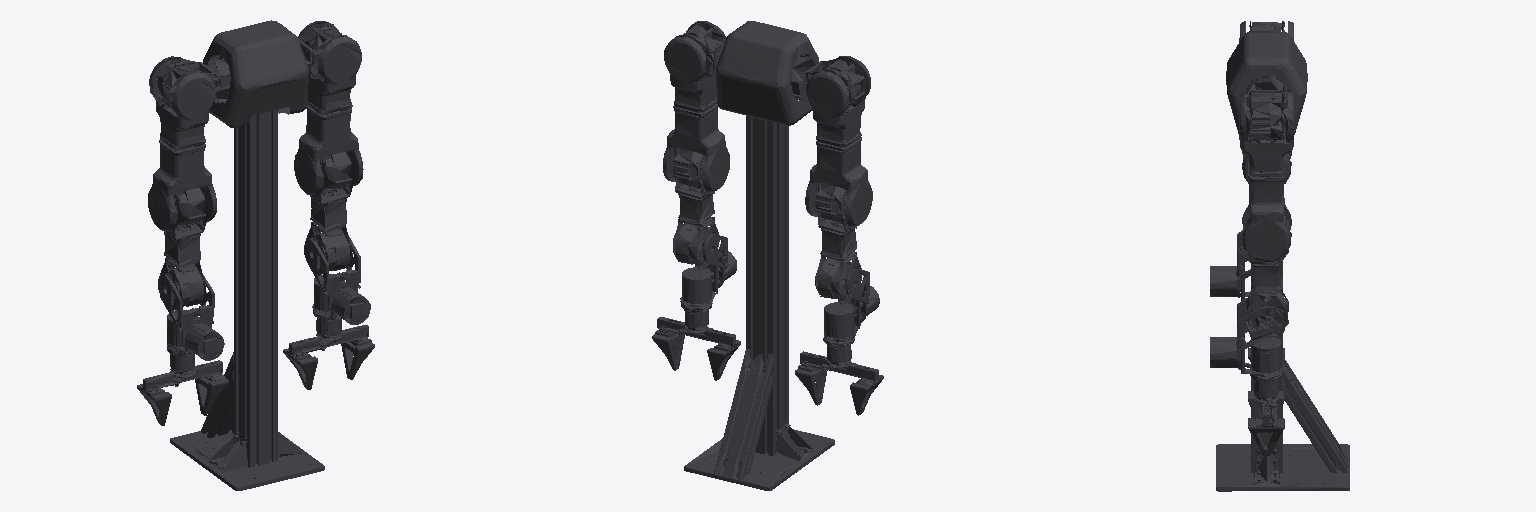
URDF robot description (humanoid_arm):
<?xml version="1.0"?>
<!-- humanoid_arm. Units: m, kg, rad. All link frames are parallel to the world frame at the zero pose. -->
<robot name="humanoid_arm">
  <mujoco>
    <compiler meshdir="../meshes/" balanceinertia="true" discardvisual="false" fusestatic="false"/>
  </mujoco>
  <material name="grey"><color rgba="0.30 0.30 0.32 1"/></material>
  <link name="base_link">
    <inertial>
      <origin xyz="0 0.103944 0.403846" rpy="0 0 0"/>
      <mass value="25.72767"/>
      <inertia ixx="2.3578e+00" ixy="3.0876e-06" ixz="-3.4480e-08" iyy="2.3470e+00" iyz="7.9302e-02" izz="6.4582e-02"/>
    </inertial>
    <visual>
      <origin xyz="0 0 0" rpy="0 0 0"/>
      <geometry><mesh filename="../meshes/base_link.stl"/></geometry>
      <material name="grey"/>
    </visual>
    <collision>
      <origin xyz="0 0 0" rpy="0 0 0"/>
      <geometry><mesh filename="../meshes/base_link.stl"/></geometry>
    </collision>
  </link>
  <link name="l_hip_pitch_link">
    <inertial>
      <origin xyz="0.051048 -0.001186 -0.000008" rpy="0 0 0"/>
      <mass value="0.868765"/>
      <inertia ixx="6.5521e-04" ixy="6.4244e-06" ixz="-3.3439e-07" iyy="9.7709e-04" iyz="7.8484e-09" izz="8.4756e-04"/>
    </inertial>
    <visual>
      <origin xyz="0 0 0" rpy="0 0 0"/>
      <geometry><mesh filename="../meshes/l_hip_pitch_link.stl"/></geometry>
      <material name="grey"/>
    </visual>
    <collision>
      <origin xyz="0 0 0" rpy="0 0 0"/>
      <geometry><mesh filename="../meshes/l_hip_pitch_link.stl"/></geometry>
    </collision>
  </link>
  <link name="l_hip_roll_link">
    <inertial>
      <origin xyz="0 0.029193 -0.060146" rpy="0 0 0"/>
      <mass value="2.059693"/>
      <inertia ixx="4.7119e-03" ixy="-3.2095e-08" ixz="-1.3711e-08" iyy="3.7988e-03" iyz="-1.1451e-05" izz="2.5091e-03"/>
    </inertial>
    <visual>
      <origin xyz="0 0 0" rpy="0 0 0"/>
      <geometry><mesh filename="../meshes/l_hip_roll_link.stl"/></geometry>
      <material name="grey"/>
    </visual>
    <collision>
      <origin xyz="0 0 0" rpy="0 0 0"/>
      <geometry><mesh filename="../meshes/l_hip_roll_link.stl"/></geometry>
    </collision>
  </link>
  <link name="l_hip_yaw_link">
    <inertial>
      <origin xyz="-0.000152 -0.000002 -0.073433" rpy="0 0 0"/>
      <mass value="1.254816"/>
      <inertia ixx="3.3900e-03" ixy="1.3120e-08" ixz="-9.5808e-06" iyy="4.3090e-03" iyz="1.5339e-07" izz="2.2337e-03"/>
    </inertial>
    <visual>
      <origin xyz="0 0 0" rpy="0 0 0"/>
      <geometry><mesh filename="../meshes/l_hip_yaw_link.stl"/></geometry>
      <material name="grey"/>
    </visual>
    <collision>
      <origin xyz="0 0 0" rpy="0 0 0"/>
      <geometry><mesh filename="../meshes/l_hip_yaw_link.stl"/></geometry>
    </collision>
  </link>
  <link name="l_knee_link">
    <inertial>
      <origin xyz="-0.027728 0.000073 -0.070232" rpy="0 0 0"/>
      <mass value="1.756732"/>
      <inertia ixx="1.0730e-02" ixy="-1.1888e-06" ixz="-1.5682e-05" iyy="1.0508e-02" iyz="-9.0171e-06" izz="1.2574e-03"/>
    </inertial>
    <visual>
      <origin xyz="0 0 0" rpy="0 0 0"/>
      <geometry><mesh filename="../meshes/l_knee_link.stl"/></geometry>
      <material name="grey"/>
    </visual>
    <collision>
      <origin xyz="0 0 0" rpy="0 0 0"/>
      <geometry><mesh filename="../meshes/l_knee_link.stl"/></geometry>
    </collision>
  </link>
  <link name="l_link4">
    <inertial>
      <origin xyz="-0.028095 -0.070822 -0.070302" rpy="0 0 0"/>
      <mass value="1.217373"/>
      <inertia ixx="1.9041e-03" ixy="2.5474e-05" ixz="2.5348e-05" iyy="1.3681e-03" iyz="-6.8837e-04" izz="1.3154e-03"/>
    </inertial>
    <visual>
      <origin xyz="0 0 0" rpy="0 0 0"/>
      <geometry><mesh filename="../meshes/l_link4.stl"/></geometry>
      <material name="grey"/>
    </visual>
    <collision>
      <origin xyz="0 0 0" rpy="0 0 0"/>
      <geometry><mesh filename="../meshes/l_link4.stl"/></geometry>
    </collision>
  </link>
  <link name="l_link5">
    <inertial>
      <origin xyz="0.000003 0.040592 -0.005292" rpy="0 0 0"/>
      <mass value="1.182443"/>
      <inertia ixx="7.7475e-04" ixy="4.3011e-08" ixz="3.0235e-09" iyy="5.1816e-04" iyz="2.5539e-05" izz="7.2014e-04"/>
    </inertial>
    <visual>
      <origin xyz="0 0 0" rpy="0 0 0"/>
      <geometry><mesh filename="../meshes/l_link5.stl"/></geometry>
      <material name="grey"/>
    </visual>
    <collision>
      <origin xyz="0 0 0" rpy="0 0 0"/>
      <geometry><mesh filename="../meshes/l_link5.stl"/></geometry>
    </collision>
  </link>
  <link name="l_link6">
    <inertial>
      <origin xyz="0.000002 0.000014 -0.037543" rpy="0 0 0"/>
      <mass value="0.390039"/>
      <inertia ixx="2.9355e-04" ixy="9.1483e-08" ixz="-2.7091e-08" iyy="6.1377e-04" iyz="-6.7905e-07" izz="4.2094e-04"/>
    </inertial>
    <visual>
      <origin xyz="0 0 0" rpy="0 0 0"/>
      <geometry><mesh filename="../meshes/l_link6.stl"/></geometry>
      <material name="grey"/>
    </visual>
    <collision>
      <origin xyz="0 0 0" rpy="0 0 0"/>
      <geometry><mesh filename="../meshes/l_link6.stl"/></geometry>
    </collision>
  </link>
  <link name="l_gripper_link">
    <inertial>
      <origin xyz="0 -0.000008 -0.007215" rpy="0 0 0"/>
      <mass value="0.02312"/>
      <inertia ixx="3.3559e-06" ixy="-2.4369e-06" ixz="1.3193e-09" iyy="5.1299e-06" iyz="1.5817e-09" izz="7.4645e-06"/>
    </inertial>
    <visual>
      <origin xyz="0 0 0" rpy="0 0 0"/>
      <geometry><mesh filename="../meshes/l_gripper_link.stl"/></geometry>
      <material name="grey"/>
    </visual>
    <collision>
      <origin xyz="0 0 0" rpy="0 0 0"/>
      <geometry><mesh filename="../meshes/l_gripper_link.stl"/></geometry>
    </collision>
  </link>
  <link name="l_jaw_right">
    <inertial>
      <origin xyz="-0.057052 -0.0049 -0.030278" rpy="0 0 0"/>
      <mass value="0.461861"/>
      <inertia ixx="3.0770e-04" ixy="1.8211e-06" ixz="3.7233e-05" iyy="2.0700e-04" iyz="4.9282e-06" izz="1.9749e-04"/>
    </inertial>
    <visual>
      <origin xyz="0 0 0" rpy="0 0 0"/>
      <geometry><mesh filename="../meshes/l_jaw_right.stl"/></geometry>
      <material name="grey"/>
    </visual>
    <collision>
      <origin xyz="0 0 0" rpy="0 0 0"/>
      <geometry><mesh filename="../meshes/l_jaw_right.stl"/></geometry>
    </collision>
  </link>
  <link name="l_jaw_left">
    <inertial>
      <origin xyz="0.057133 -0.004161 -0.030348" rpy="0 0 0"/>
      <mass value="0.46081"/>
      <inertia ixx="3.0648e-04" ixy="1.1901e-06" ixz="-3.8381e-05" iyy="2.0465e-04" iyz="-4.4710e-06" izz="1.9592e-04"/>
    </inertial>
    <visual>
      <origin xyz="0 0 0" rpy="0 0 0"/>
      <geometry><mesh filename="../meshes/l_jaw_left.stl"/></geometry>
      <material name="grey"/>
    </visual>
    <collision>
      <origin xyz="0 0 0" rpy="0 0 0"/>
      <geometry><mesh filename="../meshes/l_jaw_left.stl"/></geometry>
    </collision>
  </link>
  <link name="r_hip_pitch_link">
    <inertial>
      <origin xyz="-0.056258 -0.001186 -0.000008" rpy="0 0 0"/>
      <mass value="0.868765"/>
      <inertia ixx="6.5521e-04" ixy="-4.0814e-06" ixz="3.3334e-07" iyy="9.7452e-04" iyz="7.1261e-09" izz="8.4499e-04"/>
    </inertial>
    <visual>
      <origin xyz="0 0 0" rpy="0 0 0"/>
      <geometry><mesh filename="../meshes/r_hip_pitch_link.stl"/></geometry>
      <material name="grey"/>
    </visual>
    <collision>
      <origin xyz="0 0 0" rpy="0 0 0"/>
      <geometry><mesh filename="../meshes/r_hip_pitch_link.stl"/></geometry>
    </collision>
  </link>
  <link name="r_hip_roll_link">
    <inertial>
      <origin xyz="0 0.029193 -0.060146" rpy="0 0 0"/>
      <mass value="2.059693"/>
      <inertia ixx="4.7119e-03" ixy="-3.2095e-08" ixz="-1.3711e-08" iyy="3.7988e-03" iyz="-1.1451e-05" izz="2.5091e-03"/>
    </inertial>
    <visual>
      <origin xyz="0 0 0" rpy="0 0 0"/>
      <geometry><mesh filename="../meshes/r_hip_roll_link.stl"/></geometry>
      <material name="grey"/>
    </visual>
    <collision>
      <origin xyz="0 0 0" rpy="0 0 0"/>
      <geometry><mesh filename="../meshes/r_hip_roll_link.stl"/></geometry>
    </collision>
  </link>
  <link name="r_hip_yaw_link">
    <inertial>
      <origin xyz="-0.000152 -0.000002 -0.073433" rpy="0 0 0"/>
      <mass value="1.254816"/>
      <inertia ixx="3.3900e-03" ixy="1.3120e-08" ixz="-9.5808e-06" iyy="4.3090e-03" iyz="1.5339e-07" izz="2.2337e-03"/>
    </inertial>
    <visual>
      <origin xyz="0 0 0" rpy="0 0 0"/>
      <geometry><mesh filename="../meshes/r_hip_yaw_link.stl"/></geometry>
      <material name="grey"/>
    </visual>
    <collision>
      <origin xyz="0 0 0" rpy="0 0 0"/>
      <geometry><mesh filename="../meshes/r_hip_yaw_link.stl"/></geometry>
    </collision>
  </link>
  <link name="r_knee_link">
    <inertial>
      <origin xyz="-0.027728 0.000073 -0.070232" rpy="0 0 0"/>
      <mass value="1.756732"/>
      <inertia ixx="1.0730e-02" ixy="-1.1888e-06" ixz="-1.5682e-05" iyy="1.0508e-02" iyz="-9.0171e-06" izz="1.2574e-03"/>
    </inertial>
    <visual>
      <origin xyz="0 0 0" rpy="0 0 0"/>
      <geometry><mesh filename="../meshes/r_knee_link.stl"/></geometry>
      <material name="grey"/>
    </visual>
    <collision>
      <origin xyz="0 0 0" rpy="0 0 0"/>
      <geometry><mesh filename="../meshes/r_knee_link.stl"/></geometry>
    </collision>
  </link>
  <link name="r_link4">
    <inertial>
      <origin xyz="-0.028095 -0.070822 -0.070302" rpy="0 0 0"/>
      <mass value="1.217373"/>
      <inertia ixx="1.9041e-03" ixy="2.5474e-05" ixz="2.5348e-05" iyy="1.3681e-03" iyz="-6.8837e-04" izz="1.3154e-03"/>
    </inertial>
    <visual>
      <origin xyz="0 0 0" rpy="0 0 0"/>
      <geometry><mesh filename="../meshes/r_link4.stl"/></geometry>
      <material name="grey"/>
    </visual>
    <collision>
      <origin xyz="0 0 0" rpy="0 0 0"/>
      <geometry><mesh filename="../meshes/r_link4.stl"/></geometry>
    </collision>
  </link>
  <link name="r_link5">
    <inertial>
      <origin xyz="0.000003 0.040592 -0.005292" rpy="0 0 0"/>
      <mass value="1.182443"/>
      <inertia ixx="7.7475e-04" ixy="4.3011e-08" ixz="3.0235e-09" iyy="5.1816e-04" iyz="2.5539e-05" izz="7.2014e-04"/>
    </inertial>
    <visual>
      <origin xyz="0 0 0" rpy="0 0 0"/>
      <geometry><mesh filename="../meshes/r_link5.stl"/></geometry>
      <material name="grey"/>
    </visual>
    <collision>
      <origin xyz="0 0 0" rpy="0 0 0"/>
      <geometry><mesh filename="../meshes/r_link5.stl"/></geometry>
    </collision>
  </link>
  <link name="r_link6">
    <inertial>
      <origin xyz="0.000002 0.000014 -0.037543" rpy="0 0 0"/>
      <mass value="0.390039"/>
      <inertia ixx="2.9355e-04" ixy="9.1483e-08" ixz="-2.7091e-08" iyy="6.1377e-04" iyz="-6.7905e-07" izz="4.2094e-04"/>
    </inertial>
    <visual>
      <origin xyz="0 0 0" rpy="0 0 0"/>
      <geometry><mesh filename="../meshes/r_link6.stl"/></geometry>
      <material name="grey"/>
    </visual>
    <collision>
      <origin xyz="0 0 0" rpy="0 0 0"/>
      <geometry><mesh filename="../meshes/r_link6.stl"/></geometry>
    </collision>
  </link>
  <link name="r_gripper_link">
    <inertial>
      <origin xyz="0 -0.000009 -0.008715" rpy="0 0 0"/>
      <mass value="0.02312"/>
      <inertia ixx="3.3559e-06" ixy="-2.4369e-06" ixz="1.3193e-09" iyy="5.1299e-06" iyz="1.5817e-09" izz="7.4645e-06"/>
    </inertial>
    <visual>
      <origin xyz="0 0 0" rpy="0 0 0"/>
      <geometry><mesh filename="../meshes/r_gripper_link.stl"/></geometry>
      <material name="grey"/>
    </visual>
    <collision>
      <origin xyz="0 0 0" rpy="0 0 0"/>
      <geometry><mesh filename="../meshes/r_gripper_link.stl"/></geometry>
    </collision>
  </link>
  <link name="r_jaw_right">
    <inertial>
      <origin xyz="-0.057052 -0.0049 -0.030278" rpy="0 0 0"/>
      <mass value="0.461861"/>
      <inertia ixx="3.0770e-04" ixy="1.8211e-06" ixz="3.7233e-05" iyy="2.0700e-04" iyz="4.9282e-06" izz="1.9749e-04"/>
    </inertial>
    <visual>
      <origin xyz="0 0 0" rpy="0 0 0"/>
      <geometry><mesh filename="../meshes/r_jaw_right.stl"/></geometry>
      <material name="grey"/>
    </visual>
    <collision>
      <origin xyz="0 0 0" rpy="0 0 0"/>
      <geometry><mesh filename="../meshes/r_jaw_right.stl"/></geometry>
    </collision>
  </link>
  <link name="r_jaw_left">
    <inertial>
      <origin xyz="0.057133 -0.004161 -0.030348" rpy="0 0 0"/>
      <mass value="0.46081"/>
      <inertia ixx="3.0648e-04" ixy="1.1901e-06" ixz="-3.8381e-05" iyy="2.0465e-04" iyz="-4.4710e-06" izz="1.9592e-04"/>
    </inertial>
    <visual>
      <origin xyz="0 0 0" rpy="0 0 0"/>
      <geometry><mesh filename="../meshes/r_jaw_left.stl"/></geometry>
      <material name="grey"/>
    </visual>
    <collision>
      <origin xyz="0 0 0" rpy="0 0 0"/>
      <geometry><mesh filename="../meshes/r_jaw_left.stl"/></geometry>
    </collision>
  </link>
  <joint name="l_hip_pitch_joint" type="revolute">
    <parent link="base_link"/>
    <child link="l_hip_pitch_link"/>
    <origin xyz="0.09972 0.095 0.798" rpy="0 0 0"/>
    <axis xyz="1 0 0"/>
    <limit lower="-1.309" upper="1.309" effort="36" velocity="50"/>
    <dynamics damping="0.5" friction="0"/>
  </joint>
  <joint name="l_hip_roll_joint" type="revolute">
    <parent link="l_hip_pitch_link"/>
    <child link="l_hip_roll_link"/>
    <origin xyz="0.056 -0.0291 0" rpy="0 0 0"/>
    <axis xyz="0 1 0"/>
    <limit lower="-1.222" upper="0.349" effort="36" velocity="50"/>
    <dynamics damping="0.5" friction="0"/>
  </joint>
  <joint name="l_hip_yaw_joint" type="revolute">
    <parent link="l_hip_roll_link"/>
    <child link="l_hip_yaw_link"/>
    <origin xyz="0 0.0291 -0.10966" rpy="0 0 0"/>
    <axis xyz="0 0 1"/>
    <limit lower="-1.047" upper="1.047" effort="14" velocity="33"/>
    <dynamics damping="0.5" friction="0"/>
  </joint>
  <joint name="l_knee_joint" type="revolute">
    <parent link="l_hip_yaw_link"/>
    <child link="l_knee_link"/>
    <origin xyz="0.0286 0 -0.12375" rpy="0 0 0"/>
    <axis xyz="1 0 0"/>
    <limit lower="-1.9199" upper="0" effort="36" velocity="50"/>
    <dynamics damping="0.5" friction="0"/>
  </joint>
  <joint name="l_link4_joint" type="revolute">
    <parent link="l_knee_link"/>
    <child link="l_link4"/>
    <origin xyz="-0.0008 0 -0.17" rpy="0 0 0"/>
    <axis xyz="-1 0 0"/>
    <limit lower="-1.5708" upper="1.5708" effort="17" velocity="43"/>
    <dynamics damping="0.5" friction="0"/>
  </joint>
  <joint name="l_link5_joint" type="revolute">
    <parent link="l_link4"/>
    <child link="l_link5"/>
    <origin xyz="-0.0278 -0.047584 -0.0804" rpy="0 0 0"/>
    <axis xyz="0 1 0"/>
    <limit lower="-1.5708" upper="1.5708" effort="14" velocity="33"/>
    <dynamics damping="0.5" friction="0"/>
  </joint>
  <joint name="l_link6_joint" type="revolute">
    <parent link="l_link5"/>
    <child link="l_link6"/>
    <origin xyz="0.000004 0.046462 -0.040749" rpy="0 0 0"/>
    <axis xyz="0 0 -1"/>
    <limit lower="-2.0944" upper="2.0944" effort="14" velocity="33"/>
    <dynamics damping="0.5" friction="0"/>
  </joint>
  <joint name="l_gripper_joint" type="revolute">
    <parent link="l_link6"/>
    <child link="l_gripper_link"/>
    <origin xyz="0 -0.000052 -0.05" rpy="0 0 0"/>
    <axis xyz="0 0 1"/>
    <limit lower="0" upper="1.9548" effort="5" velocity="10"/>
    <dynamics damping="0.5" friction="0"/>
  </joint>
  <joint name="l_jaw_right_joint" type="prismatic">
    <parent link="l_link6"/>
    <child link="l_jaw_right"/>
    <origin xyz="0 0.004433 -0.062004" rpy="0 0 0"/>
    <axis xyz="-1 0 0"/>
    <limit lower="-0.043459" upper="0" effort="200" velocity="0.25"/>
    <mimic joint="l_gripper_joint" multiplier="-0.0221801" offset="0"/>
    <dynamics damping="5.0" friction="0"/>
  </joint>
  <joint name="l_jaw_left_joint" type="prismatic">
    <parent link="l_link6"/>
    <child link="l_jaw_left"/>
    <origin xyz="0 0.004433 -0.062004" rpy="0 0 0"/>
    <axis xyz="-1 0 0"/>
    <limit lower="0" upper="0.043465" effort="200" velocity="0.25"/>
    <mimic joint="l_gripper_joint" multiplier="0.0221801" offset="0"/>
    <dynamics damping="5.0" friction="0"/>
  </joint>
  <joint name="r_hip_pitch_joint" type="revolute">
    <parent link="base_link"/>
    <child link="r_hip_pitch_link"/>
    <origin xyz="-0.09422 0.095 0.798" rpy="0 0 0"/>
    <axis xyz="1 0 0"/>
    <limit lower="-1.309" upper="1.309" effort="36" velocity="50"/>
    <dynamics damping="0.5" friction="0"/>
  </joint>
  <joint name="r_hip_roll_joint" type="revolute">
    <parent link="r_hip_pitch_link"/>
    <child link="r_hip_roll_link"/>
    <origin xyz="-0.0615 -0.0291 0" rpy="0 0 0"/>
    <axis xyz="0 1 0"/>
    <limit lower="-0.349" upper="1.222" effort="36" velocity="50"/>
    <dynamics damping="0.5" friction="0"/>
  </joint>
  <joint name="r_hip_yaw_joint" type="revolute">
    <parent link="r_hip_roll_link"/>
    <child link="r_hip_yaw_link"/>
    <origin xyz="0 0.0291 -0.10966" rpy="0 0 0"/>
    <axis xyz="0 0 1"/>
    <limit lower="-1.047" upper="1.047" effort="14" velocity="33"/>
    <dynamics damping="0.5" friction="0"/>
  </joint>
  <joint name="r_knee_joint" type="revolute">
    <parent link="r_hip_yaw_link"/>
    <child link="r_knee_link"/>
    <origin xyz="0.0286 0 -0.12375" rpy="0 0 0"/>
    <axis xyz="1 0 0"/>
    <limit lower="-1.9199" upper="0" effort="36" velocity="50"/>
    <dynamics damping="0.5" friction="0"/>
  </joint>
  <joint name="r_link4_joint" type="revolute">
    <parent link="r_knee_link"/>
    <child link="r_link4"/>
    <origin xyz="-0.0008 0 -0.17" rpy="0 0 0"/>
    <axis xyz="-1 0 0"/>
    <limit lower="-1.5708" upper="1.5708" effort="17" velocity="43"/>
    <dynamics damping="0.5" friction="0"/>
  </joint>
  <joint name="r_link5_joint" type="revolute">
    <parent link="r_link4"/>
    <child link="r_link5"/>
    <origin xyz="-0.0278 -0.047584 -0.0804" rpy="0 0 0"/>
    <axis xyz="0 1 0"/>
    <limit lower="-1.5708" upper="1.5708" effort="14" velocity="33"/>
    <dynamics damping="0.5" friction="0"/>
  </joint>
  <joint name="r_link6_joint" type="revolute">
    <parent link="r_link5"/>
    <child link="r_link6"/>
    <origin xyz="0.000004 0.046462 -0.040749" rpy="0 0 0"/>
    <axis xyz="0 0 -1"/>
    <limit lower="-2.0944" upper="2.0944" effort="14" velocity="33"/>
    <dynamics damping="0.5" friction="0"/>
  </joint>
  <joint name="r_gripper_joint" type="revolute">
    <parent link="r_link6"/>
    <child link="r_gripper_link"/>
    <origin xyz="0 -0.000051 -0.0485" rpy="0 0 0"/>
    <axis xyz="0 0 1"/>
    <limit lower="0" upper="1.9548" effort="5" velocity="10"/>
    <dynamics damping="0.5" friction="0"/>
  </joint>
  <joint name="r_jaw_right_joint" type="prismatic">
    <parent link="r_link6"/>
    <child link="r_jaw_right"/>
    <origin xyz="0 0.004433 -0.062004" rpy="0 0 0"/>
    <axis xyz="-1 0 0"/>
    <limit lower="-0.043459" upper="0" effort="200" velocity="0.25"/>
    <mimic joint="r_gripper_joint" multiplier="-0.0221801" offset="0"/>
    <dynamics damping="5.0" friction="0"/>
  </joint>
  <joint name="r_jaw_left_joint" type="prismatic">
    <parent link="r_link6"/>
    <child link="r_jaw_left"/>
    <origin xyz="0 0.004433 -0.062004" rpy="0 0 0"/>
    <axis xyz="-1 0 0"/>
    <limit lower="0" upper="0.043465" effort="200" velocity="0.25"/>
    <mimic joint="r_gripper_joint" multiplier="0.0221801" offset="0"/>
    <dynamics damping="5.0" friction="0"/>
  </joint>
</robot>

--- What the picture shows (computed from the rendered views, not written in the file) ---
The picture shows the robot from 3 angles, left to right: view 1: azimuth 30°, elevation 25°; view 2: azimuth 150°, elevation 25°; view 3: azimuth 270°, elevation 25°; orthographic projection.
Robot: humanoid_arm — 21 links, 20 joints (16 revolute, 4 prismatic); root link base_link; default pose: every joint at zero.
Links seen in each view (by area): view 1: base_link, l_knee_link, r_knee_link, r_hip_yaw_link, l_hip_yaw_link, r_hip_roll_link, l_hip_roll_link, l_link4, r_link4, r_hip_pitch_link, l_link6, r_link6 (+5 smaller); view 2: base_link, r_knee_link, l_knee_link, r_hip_yaw_link, l_hip_yaw_link, r_hip_roll_link, l_hip_roll_link, r_link6, l_link6, r_link5, l_link5, r_hip_pitch_link (+7 smaller); view 3: base_link, l_hip_yaw_link, l_hip_roll_link, l_link4, l_knee_link, l_hip_pitch_link, r_link4, l_link5, l_jaw_left, l_link6.
Link boxes in pixels (bbox=[...]): base_link: bbox=[170, 20, 324, 490]; l_knee_link: bbox=[305, 151, 355, 274]; r_knee_link: bbox=[159, 186, 209, 310]; r_hip_yaw_link: bbox=[148, 140, 216, 230]; l_hip_yaw_link: bbox=[294, 105, 363, 194]; r_hip_roll_link: bbox=[149, 56, 215, 149]; l_hip_roll_link: bbox=[298, 21, 361, 114]; l_link4: bbox=[304, 235, 370, 324]; r_link4: bbox=[158, 275, 224, 360]; r_hip_pitch_link: bbox=[152, 58, 218, 108]; l_link6: bbox=[289, 310, 368, 355]; r_link6: bbox=[143, 345, 222, 390]; base_link: bbox=[684, 21, 834, 490]; r_knee_link: bbox=[813, 183, 861, 304]; l_knee_link: bbox=[671, 148, 719, 269]; r_hip_yaw_link: bbox=[805, 137, 872, 226]; l_hip_yaw_link: bbox=[663, 104, 729, 191]; r_hip_roll_link: bbox=[806, 56, 870, 146]; l_hip_roll_link: bbox=[664, 21, 724, 111]; r_link6: bbox=[800, 337, 878, 381]; l_link6: bbox=[657, 301, 735, 346]; r_link5: bbox=[824, 299, 860, 341]; l_link5: bbox=[680, 264, 718, 307]; r_hip_pitch_link: bbox=[804, 58, 867, 109]; base_link: bbox=[1216, 32, 1349, 491]; l_hip_yaw_link: bbox=[1242, 171, 1291, 261]; l_hip_roll_link: bbox=[1239, 92, 1293, 176]; l_link4: bbox=[1210, 299, 1282, 368]; l_knee_link: bbox=[1242, 209, 1291, 336]; l_hip_pitch_link: bbox=[1249, 90, 1284, 141]; r_link4: bbox=[1210, 230, 1250, 297]; l_link5: bbox=[1239, 337, 1282, 376]; l_jaw_left: bbox=[1248, 407, 1284, 455]; l_link6: bbox=[1250, 371, 1282, 424].
Bounding box of the posed robot: 0.4764 × 0.2613 × 0.873 m (x, y, z).
21 mesh visuals loaded from 21 distinct referenced files (21 binary STL).
